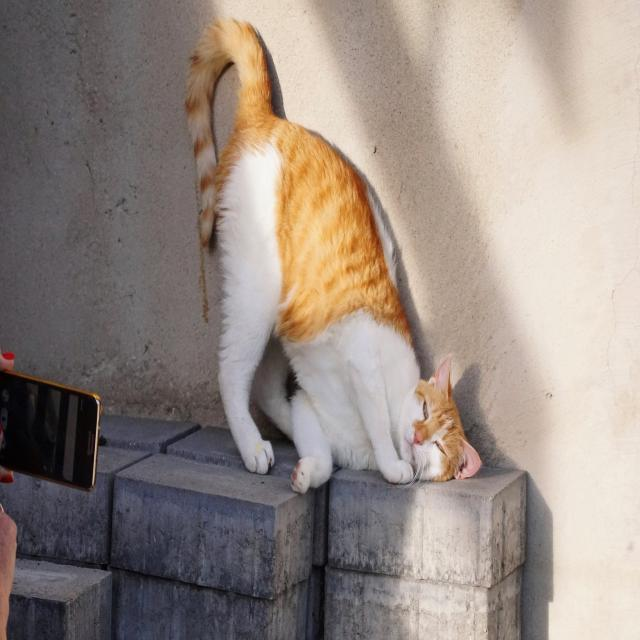cat: (175, 7, 491, 496)
